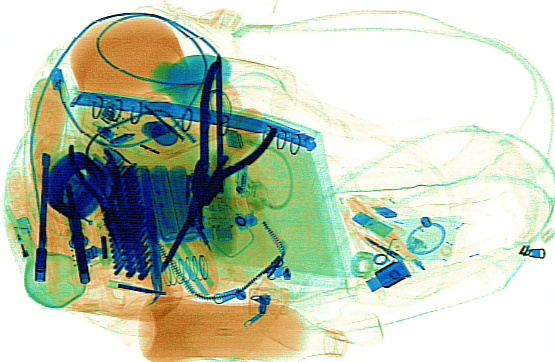lighter: (11, 213, 47, 282)
powerbank: (102, 162, 236, 247)
